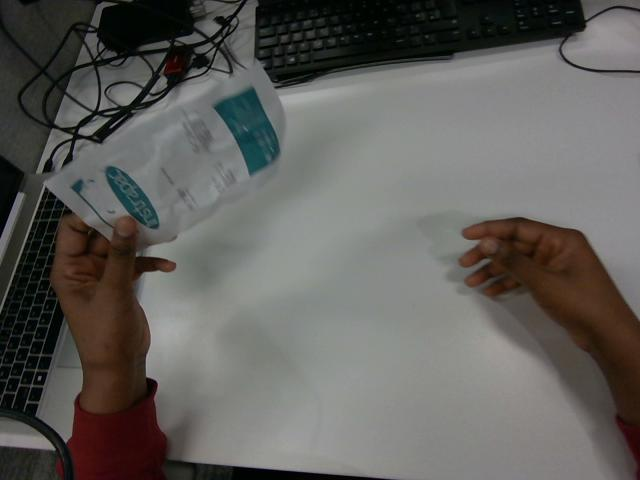gallipot: (46, 64, 284, 248)
